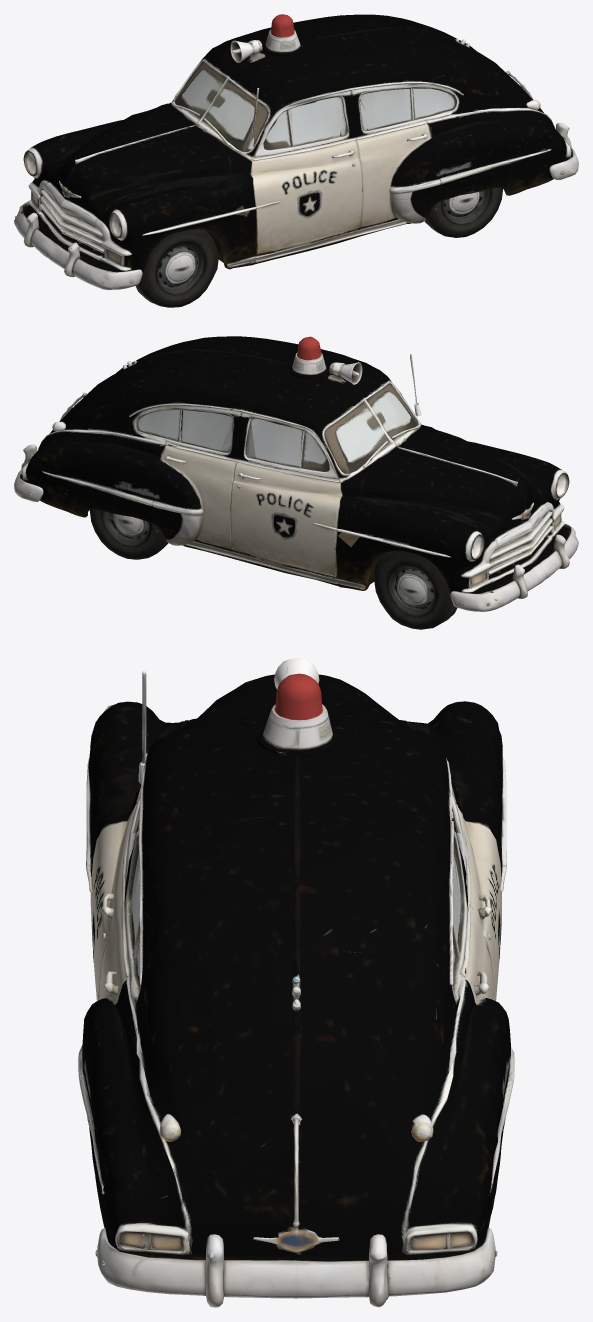
File: fleetline police.glb
3 views of the same model, one above another, from view 1: azimuth 30°, elevation 25°; view 2: azimuth 150°, elevation 25°; view 3: azimuth 270°, elevation 25° (orthographic). The views are drawn at different scales.
Size of the model in its own units: 0.9565 by 0.4023 by 0.3569.
Materials: 1 (1 with a texture image).
